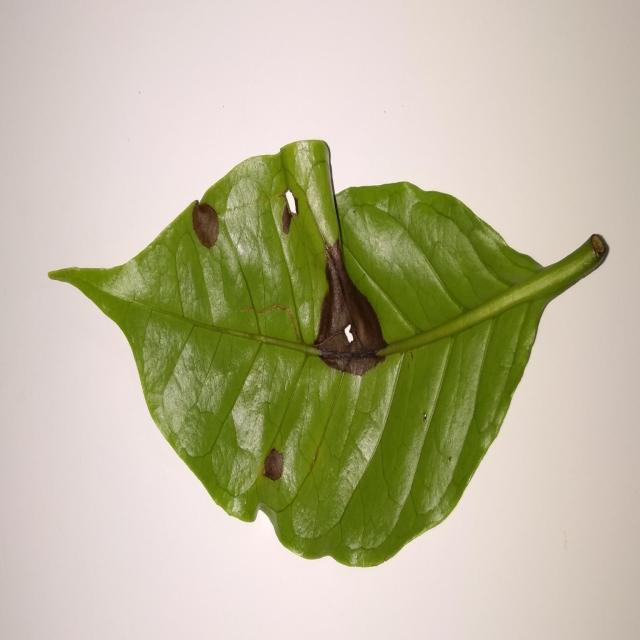Enfermedad-Antracnosis: (48, 140, 611, 571)
